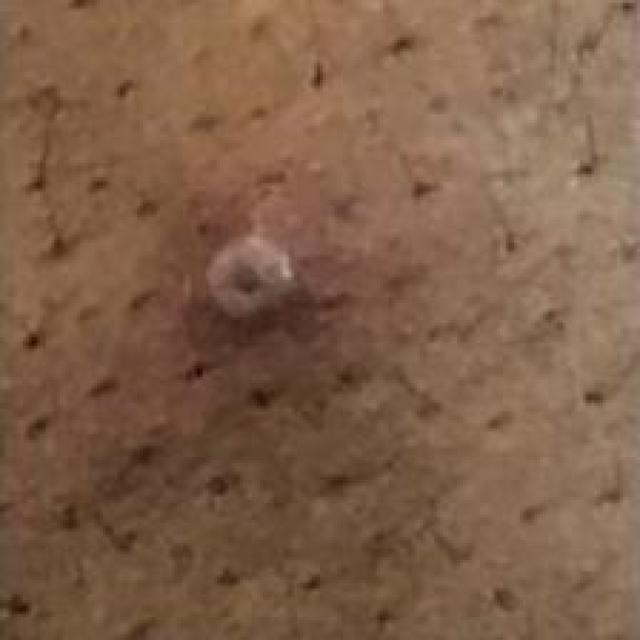monkeypox: (42, 96, 486, 554)
